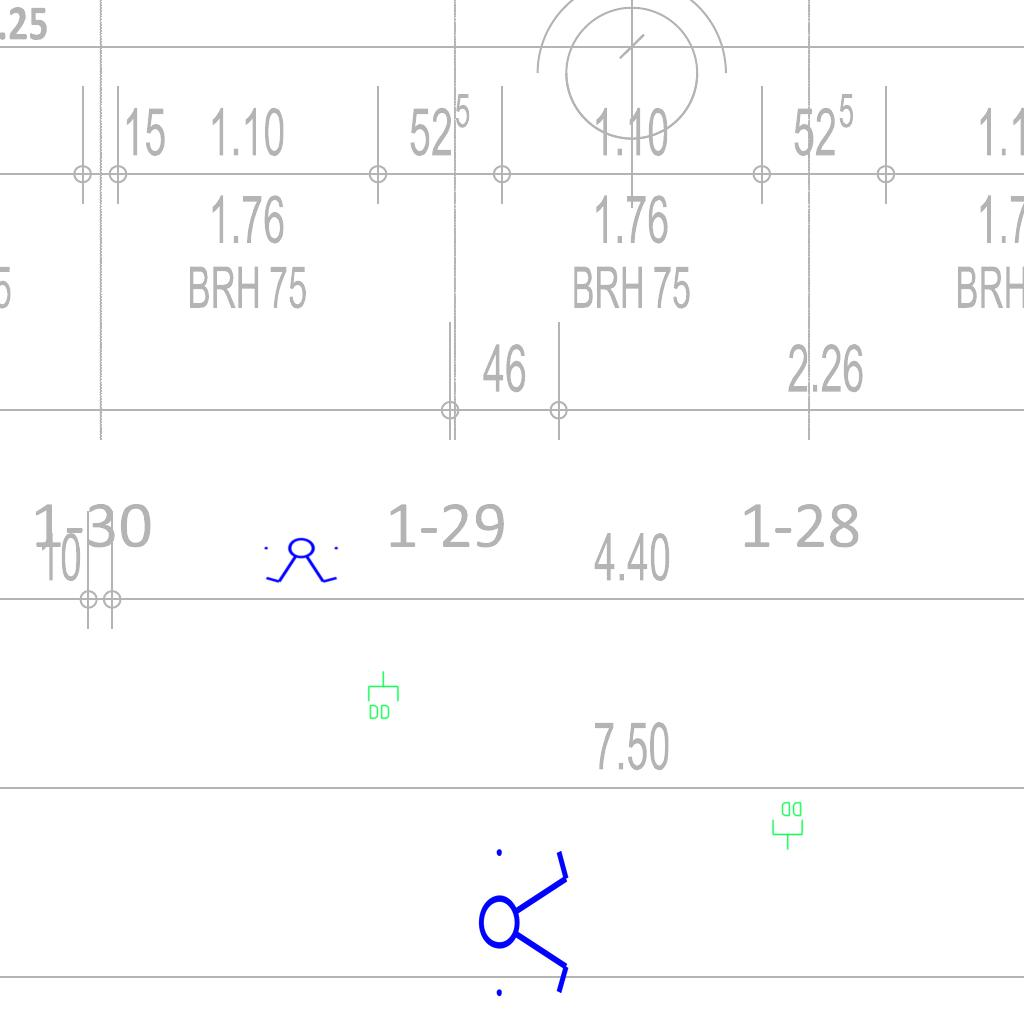Datenanschluss_zweifach: (771, 800, 805, 851), (366, 670, 400, 721)
Serienschalter: (477, 837, 573, 1005), (260, 537, 344, 585)
